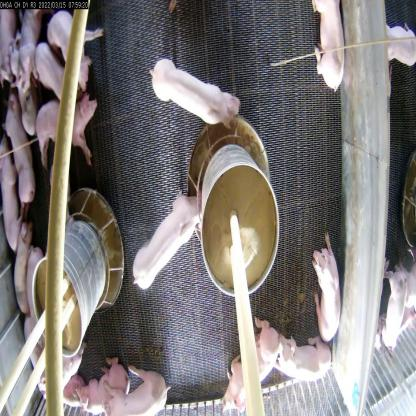Pig: (147, 53, 241, 144), (129, 192, 202, 296), (222, 313, 283, 406), (305, 219, 344, 345), (29, 96, 99, 164), (44, 10, 104, 88), (310, 1, 349, 99), (4, 106, 38, 210), (272, 336, 336, 390), (75, 356, 128, 416), (101, 370, 168, 415), (0, 145, 25, 256), (28, 44, 72, 104)
